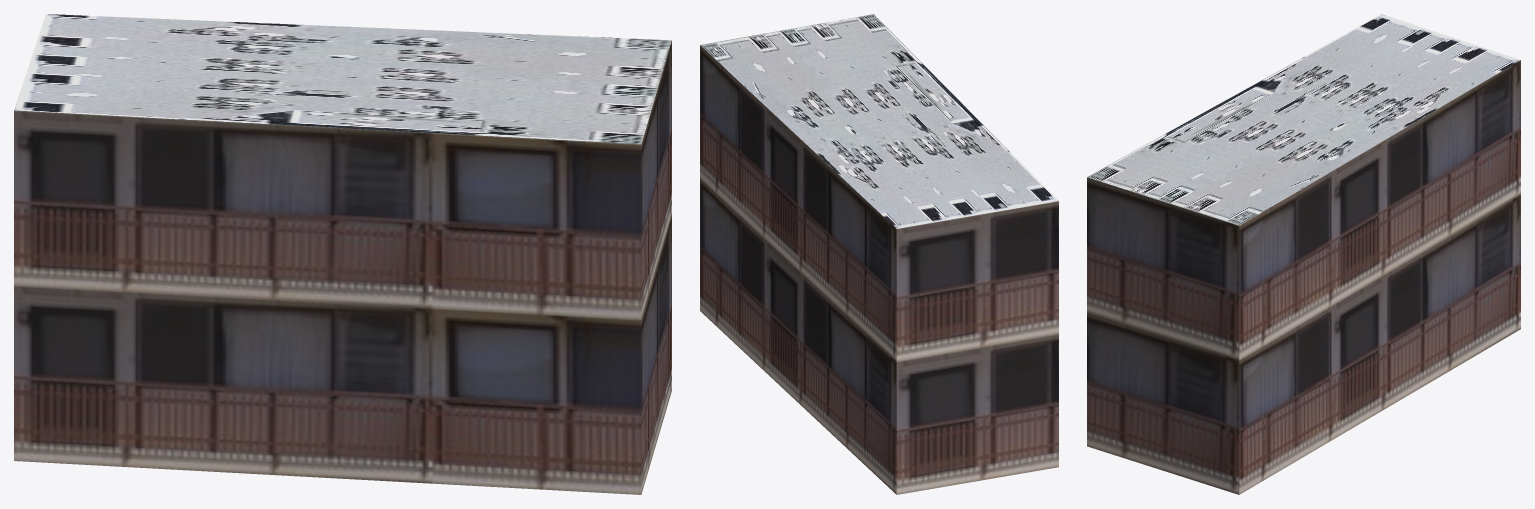
The model's file is ResTex__3184.fbx.
3 renders of one model, left to right at view 1: azimuth 30°, elevation 25°; view 2: azimuth 150°, elevation 25°; view 3: azimuth 270°, elevation 25°, orthographic. The views are drawn at different scales.
Parts seen in each view (by area): view 1: CityEngineMaterial_6_m, CityEngineMaterial_4_m; view 2: CityEngineMaterial_6_m, CityEngineMaterial_4_m; view 3: CityEngineMaterial_6_m, CityEngineMaterial_4_m.
Boxes of the visible parts, x1,y1,x2,y2 form: CityEngineMaterial_6_m: [14, 41, 671, 494]; CityEngineMaterial_4_m: [14, 14, 671, 144]; CityEngineMaterial_6_m: [700, 45, 1058, 494]; CityEngineMaterial_4_m: [700, 14, 1058, 228]; CityEngineMaterial_6_m: [1087, 60, 1520, 494]; CityEngineMaterial_4_m: [1087, 14, 1520, 225].
Bounding box in the file's own units: 10.12 × 6 × 8.77.
Materials: 2 (2 with a texture image).
